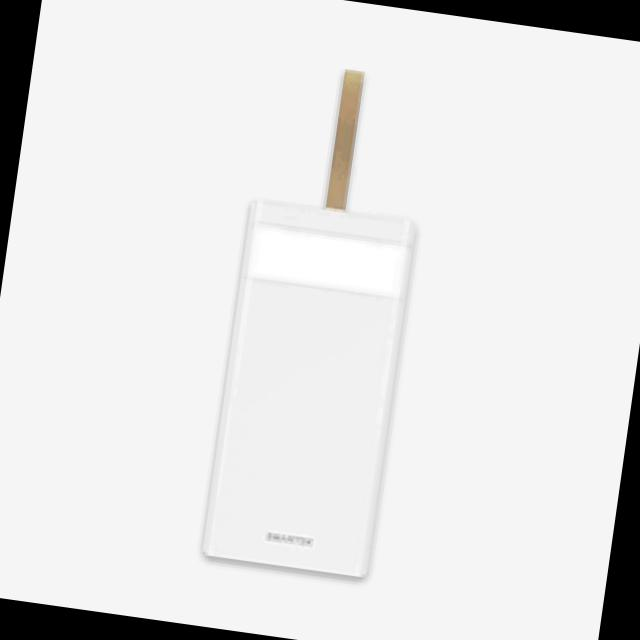portable-charger: (194, 192, 427, 593)
